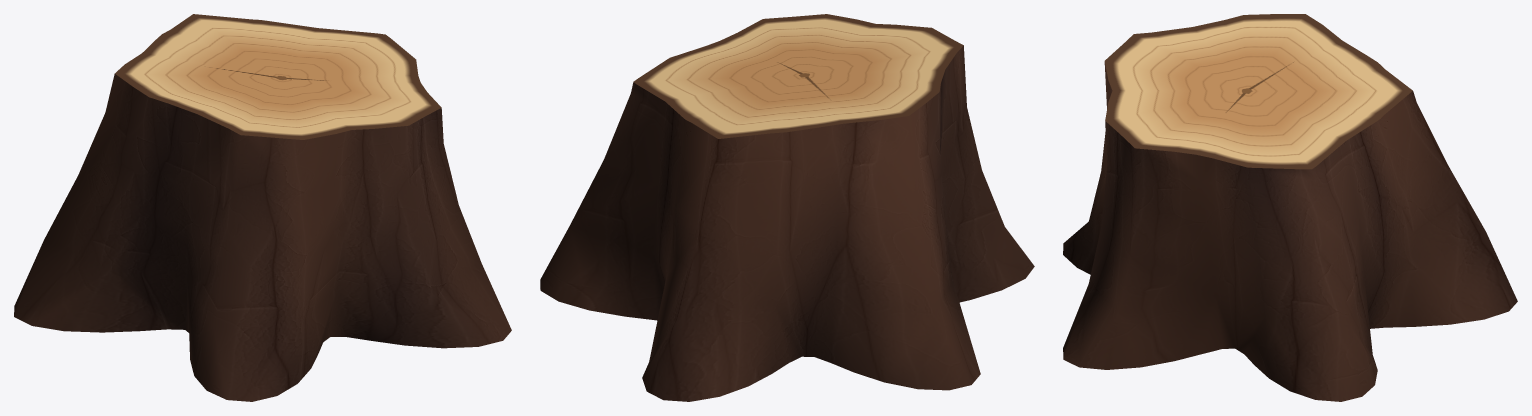
File: Stump_CommonTree_3.gltf
The picture shows the model from 3 angles, left to right: view 1: azimuth 30°, elevation 25°; view 2: azimuth 150°, elevation 25°; view 3: azimuth 270°, elevation 25°; orthographic projection. The views are drawn at different scales.
Visible parts, largest first — view 1: Stump_CommonTree_3; view 2: Stump_CommonTree_3; view 3: Stump_CommonTree_3.
Boxes of the visible parts, x1,y1,x2,y2 form: Stump_CommonTree_3: [14, 14, 511, 401]; Stump_CommonTree_3: [540, 14, 1034, 401]; Stump_CommonTree_3: [1063, 14, 1517, 401].
Bounding box in the file's own units: 1.42 × 0.7391 × 1.35.
2 materials, 2 textured.
